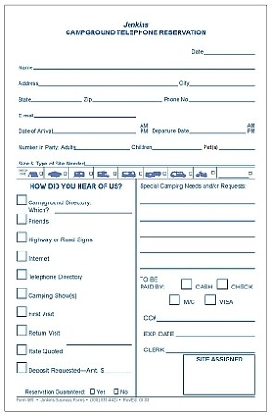checkbox: (14, 229, 30, 244), (214, 276, 229, 291), (13, 342, 29, 356), (15, 267, 29, 282), (14, 361, 29, 375), (15, 286, 29, 300), (15, 305, 29, 319), (203, 292, 217, 306), (13, 194, 28, 207), (14, 324, 29, 337), (166, 293, 181, 306), (15, 212, 28, 226), (15, 249, 28, 263), (180, 277, 193, 290), (88, 387, 97, 395), (112, 386, 120, 395), (61, 170, 67, 176), (112, 170, 117, 177), (188, 170, 193, 177), (88, 170, 92, 177), (138, 171, 143, 176), (247, 170, 252, 175), (39, 170, 43, 176), (211, 171, 215, 176), (162, 171, 165, 176)
textbox: (181, 353, 257, 395)
textline: (33, 59, 258, 73), (86, 157, 258, 168), (37, 76, 180, 88), (137, 211, 257, 224), (139, 226, 256, 239), (156, 310, 260, 324), (34, 108, 137, 122), (138, 245, 256, 257), (138, 261, 257, 272), (176, 327, 256, 341), (165, 344, 257, 356), (138, 198, 257, 207), (63, 332, 134, 347), (188, 75, 257, 89), (188, 92, 257, 105), (91, 92, 163, 104), (55, 125, 137, 135), (53, 206, 134, 216), (202, 45, 257, 58), (189, 125, 248, 136), (76, 142, 130, 153), (31, 93, 82, 104), (152, 142, 202, 153), (217, 168, 248, 181), (219, 142, 256, 152), (105, 364, 133, 375)
